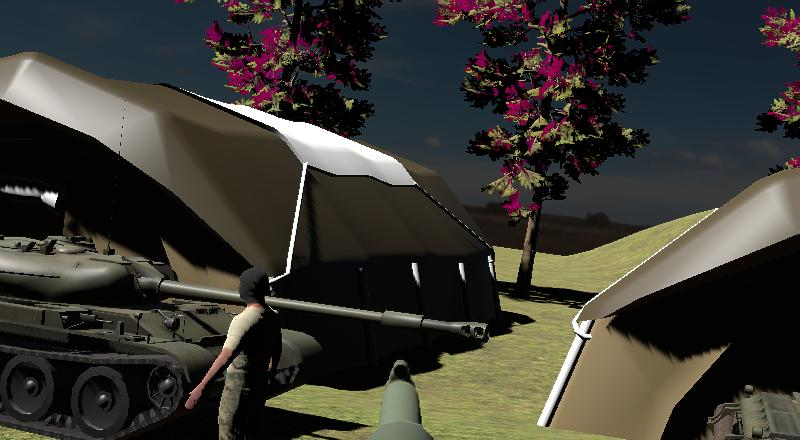Human: (184, 260, 292, 440)
Tank: (9, 220, 500, 439), (2, 216, 321, 440)
